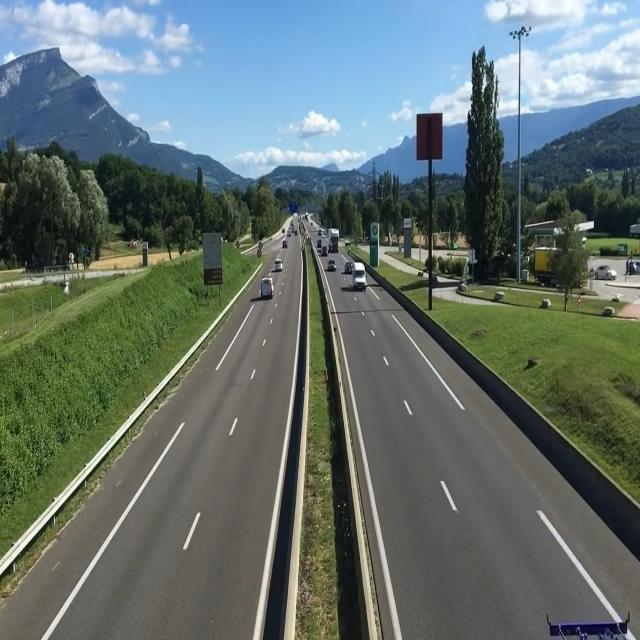Car: (328, 259, 337, 271)
Truck: (261, 276, 274, 298), (328, 228, 339, 252)
Van: (352, 262, 367, 290), (274, 258, 284, 272)
